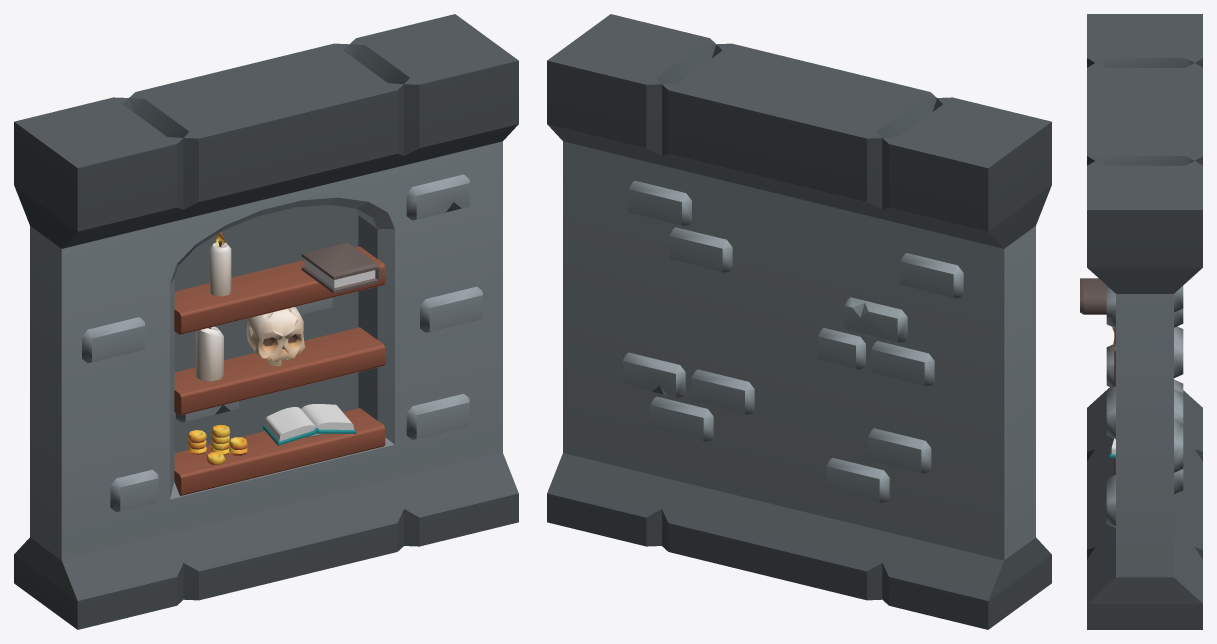
File: wall_crypt_A.glb
3 views of the same model, side by side, from view 1: azimuth 30°, elevation 25°; view 2: azimuth 150°, elevation 25°; view 3: azimuth 270°, elevation 25° (orthographic). The views are drawn at different scales.
Parts seen in each view (by area): view 1: Item; view 2: Item; view 3: Item.
Boxes of the visible parts, x1=… form: Item: x1=14, y1=14, x2=518, y2=629; Item: x1=547, y1=14, x2=1051, y2=629; Item: x1=1080, y1=14, x2=1202, y2=629.
Bounding box in the file's own units: 4 × 4 × 1.06.
Materials: 4 (4 with a texture image).
